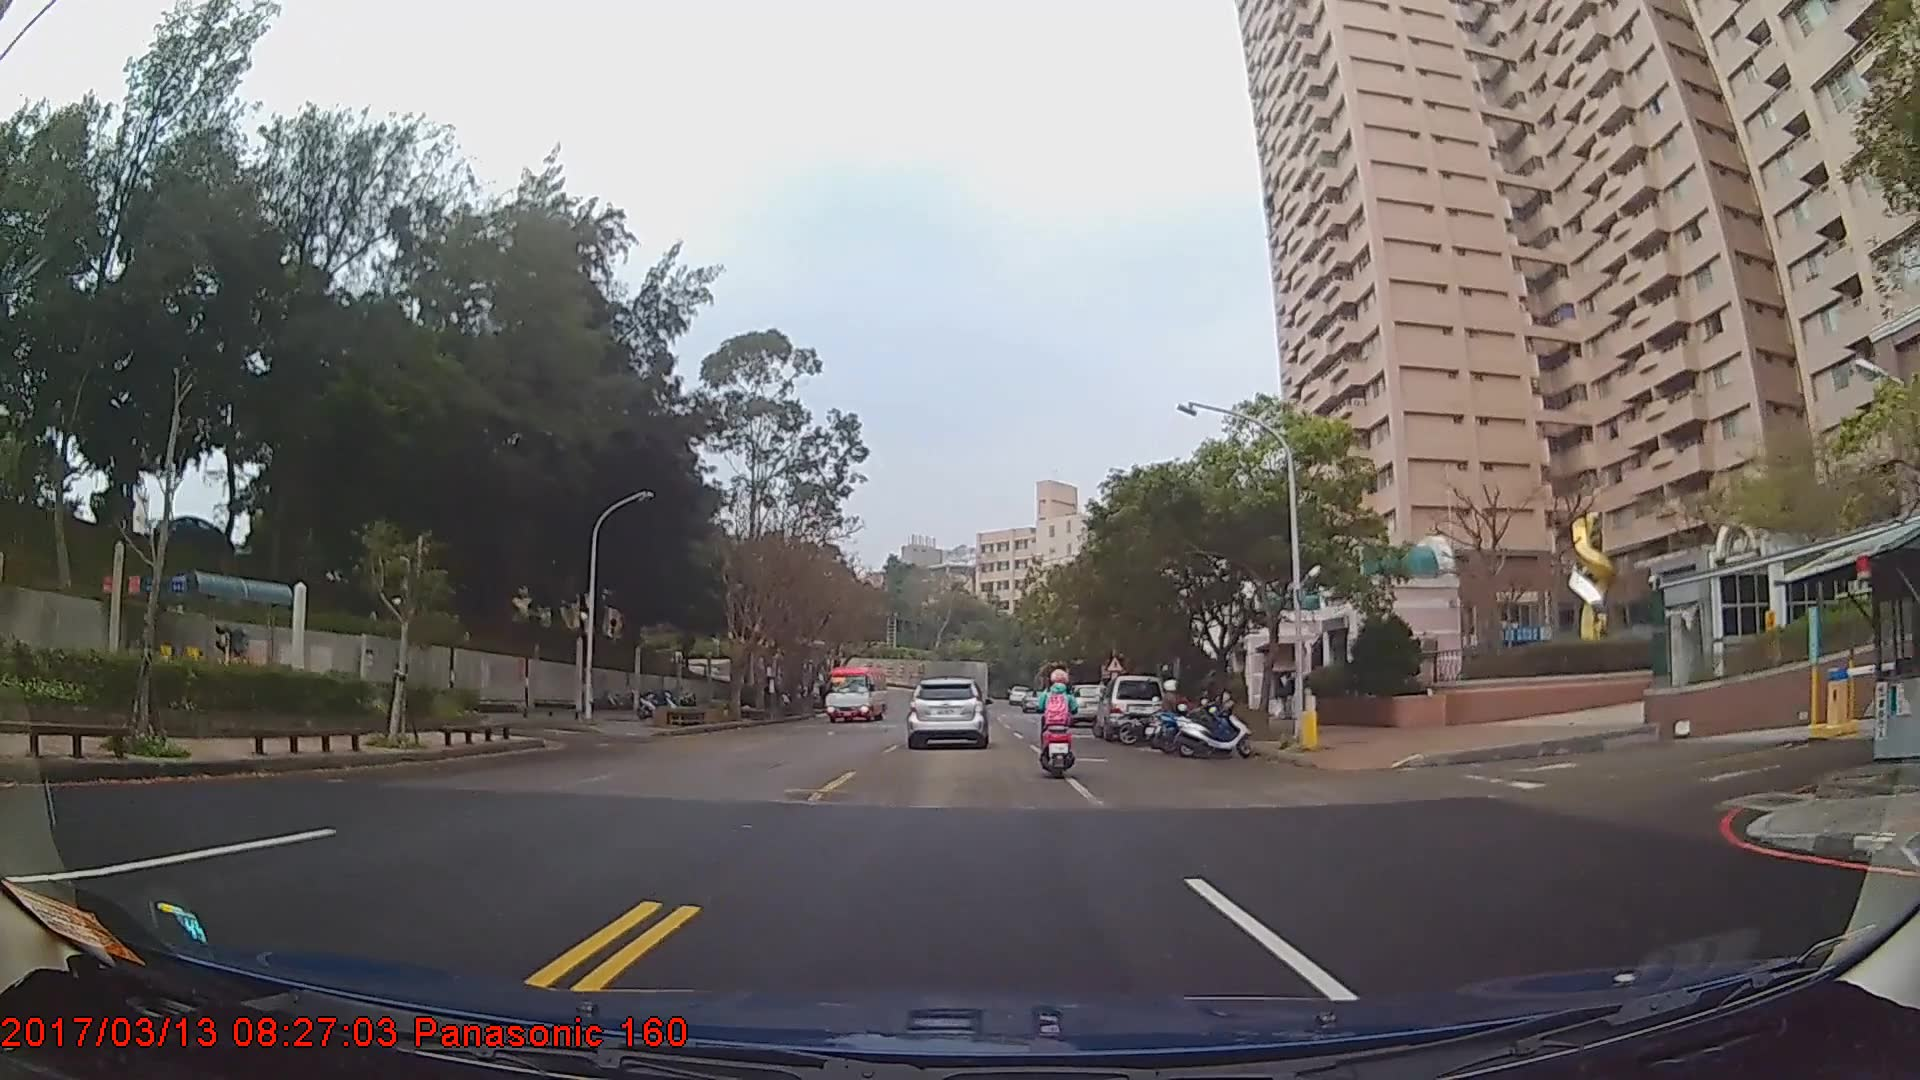rider: (1035, 668, 1081, 786), (1146, 679, 1192, 750)
vehicle: (906, 677, 987, 748), (1093, 673, 1164, 740), (821, 666, 886, 726), (1065, 682, 1111, 725)
